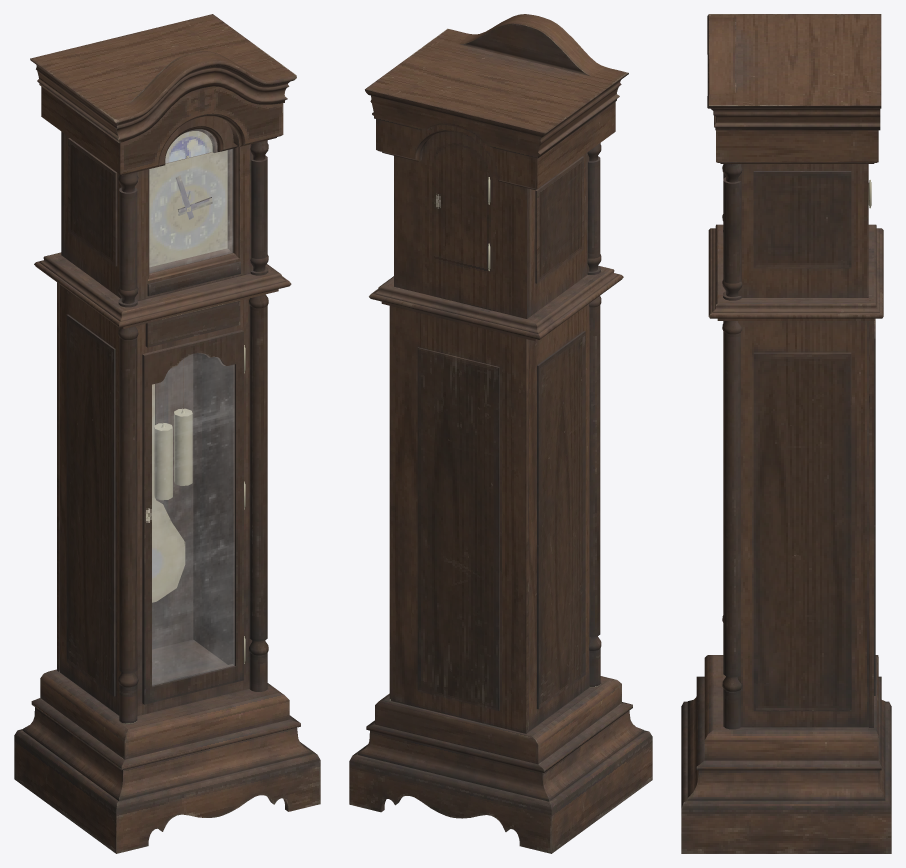
File: new_clock_4.glb
3 views of the same model, side by side, from view 1: azimuth 30°, elevation 25°; view 2: azimuth 150°, elevation 25°; view 3: azimuth 270°, elevation 25° (orthographic). The views are drawn at different scales.
Parts seen in each view (by area): view 1: SM_Clock_Grandfather_02b.004; view 2: SM_Clock_Grandfather_02b.004; view 3: SM_Clock_Grandfather_02b.004.
Part boxes in pixels (x1,y1,x2,y2): SM_Clock_Grandfather_02b.004: (14,14,320,853); SM_Clock_Grandfather_02b.004: (349,14,652,853); SM_Clock_Grandfather_02b.004: (681,14,891,853).
Bounding box in the file's own units: 0.578 × 2.04 × 0.5.
2 materials, 2 textured.
